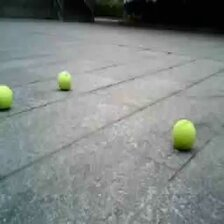tennis: (172, 120, 197, 149), (1, 85, 14, 110), (58, 71, 72, 89)
